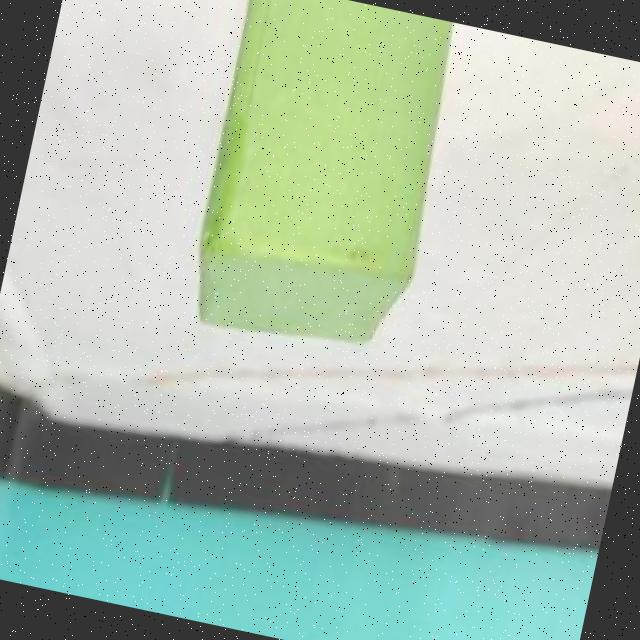greenbox: (173, 0, 470, 373)
